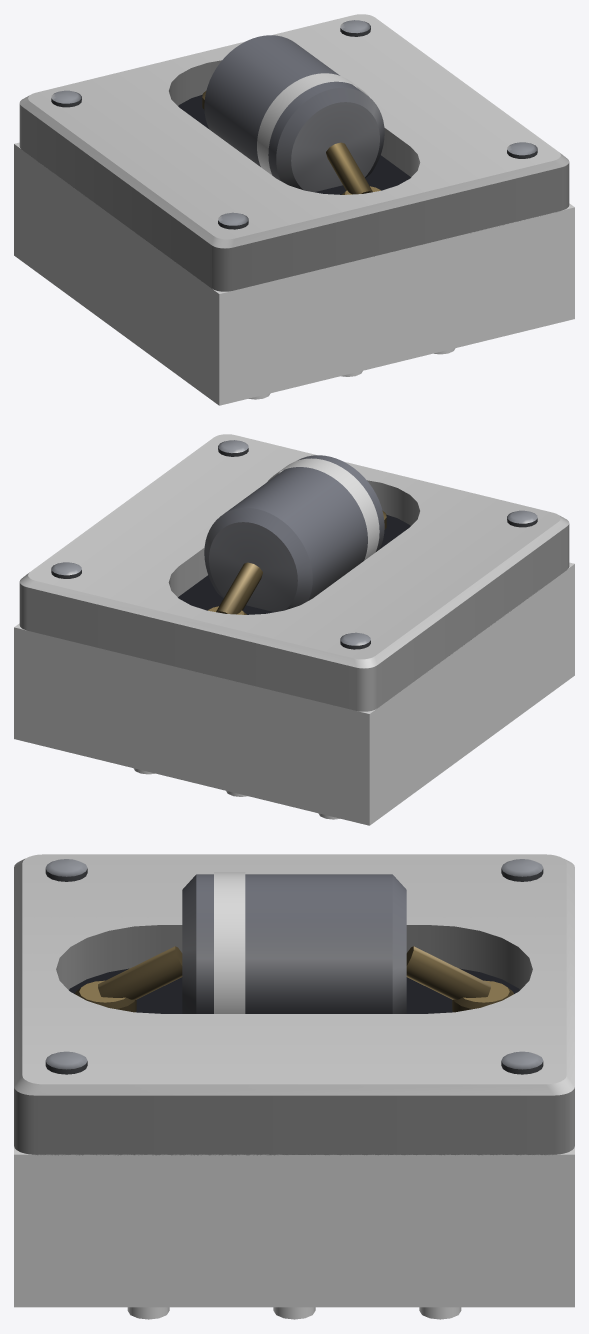
The model's file is part_blocking_diode.glb.
3 views of the same model, one above another, from view 1: azimuth 30°, elevation 25°; view 2: azimuth 150°, elevation 25°; view 3: azimuth 270°, elevation 25° (orthographic). The views are drawn at different scales.
Parts seen in each view (by area): view 1: Plattform, Gehaeuse, Korpus, Licht; view 2: Plattform, Gehaeuse, Korpus, Licht; view 3: Plattform, Gehaeuse, Korpus, Licht, Stecker.
Boxes of the visible parts, x1=… form: Plattform: x1=19, y1=14, x2=569, y2=291; Gehaeuse: x1=14, y1=142, x2=574, y2=405; Korpus: x1=51, y1=20, x2=537, y2=229; Licht: x1=257, y1=73, x2=369, y2=175; Plattform: x1=19, y1=434, x2=569, y2=711; Gehaeuse: x1=14, y1=562, x2=574, y2=825; Korpus: x1=51, y1=440, x2=537, y2=649; Licht: x1=267, y1=458, x2=379, y2=560; Plattform: x1=14, y1=854, x2=574, y2=1155; Gehaeuse: x1=14, y1=1146, x2=574, y2=1307; Korpus: x1=45, y1=859, x2=543, y2=1074; Licht: x1=214, y1=872, x2=245, y2=1013; Stecker: x1=127, y1=1307, x2=461, y2=1319.
Size of the model in its own units: 0.8 by 0.58 by 0.8.
